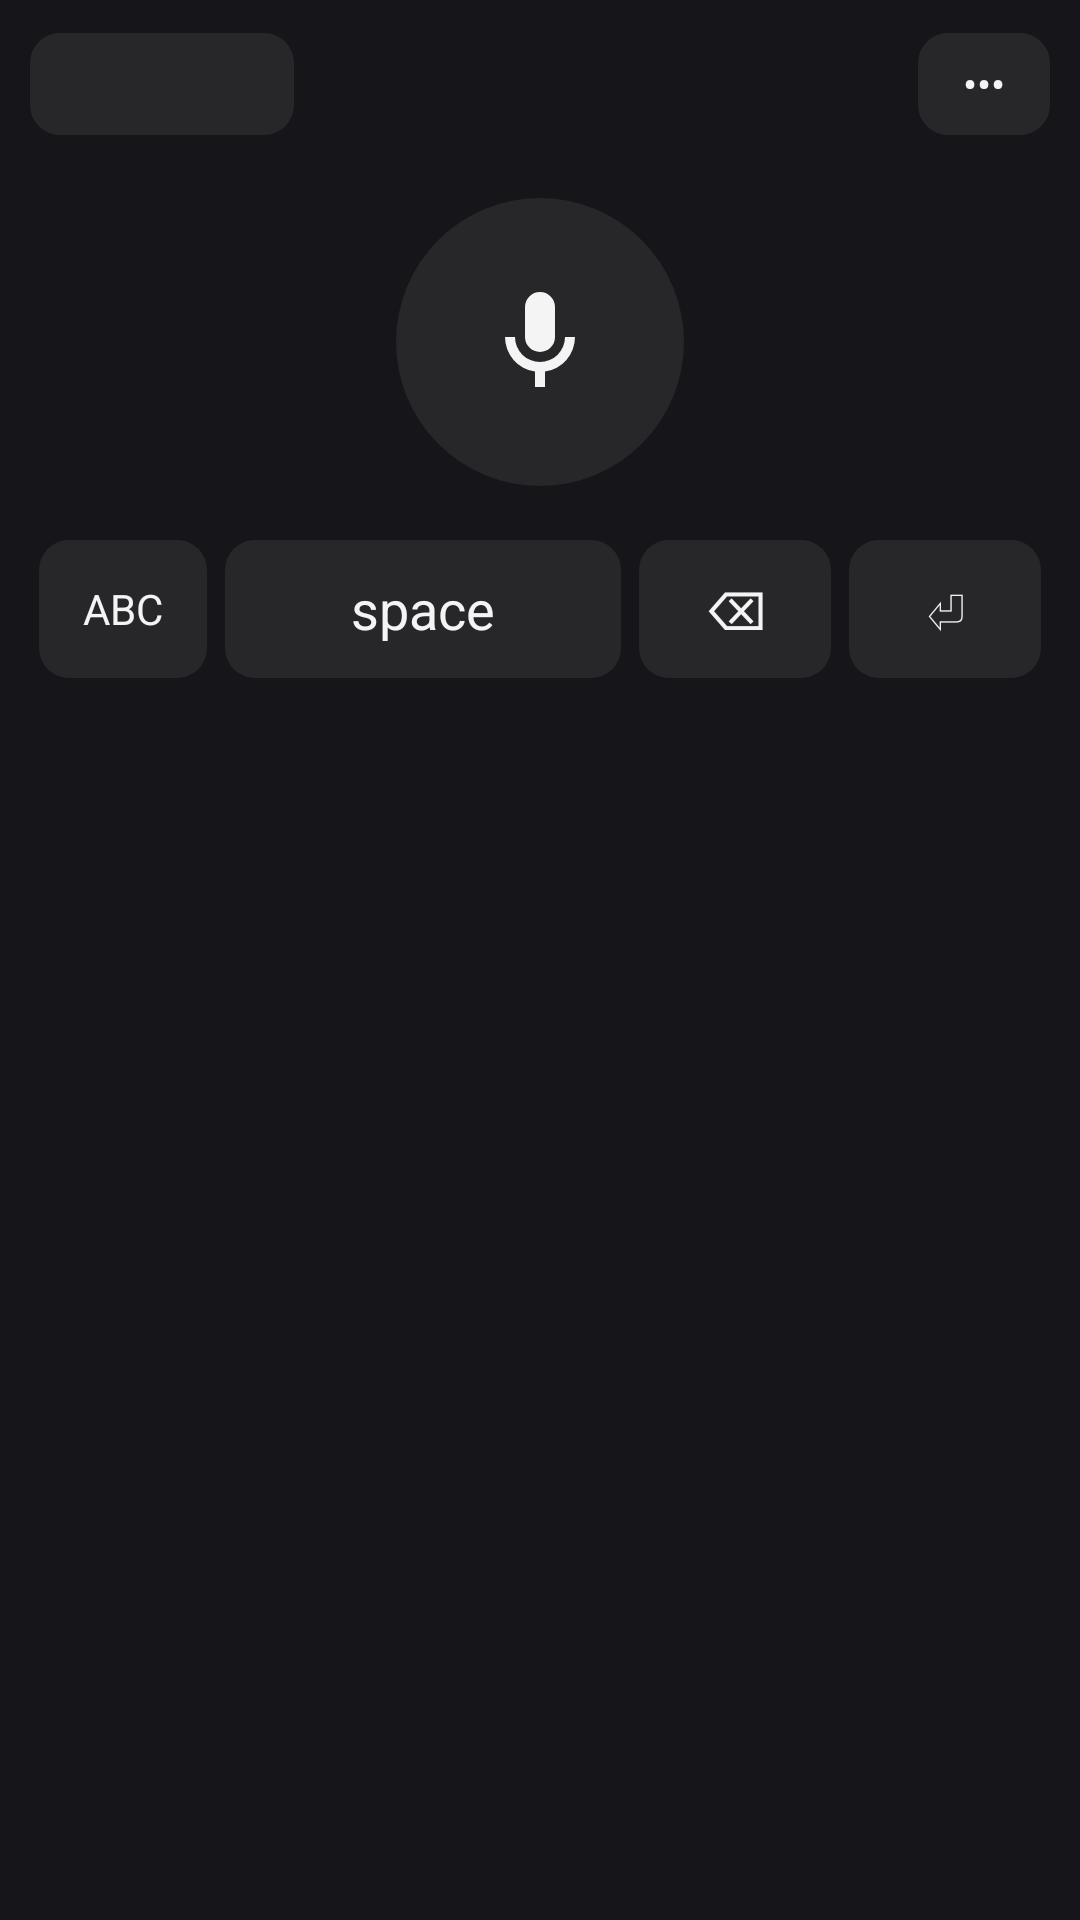

Icons on this 1080×1920 Android screen, each with the point to tap as [x,y]:
Microphone: [540,342]
